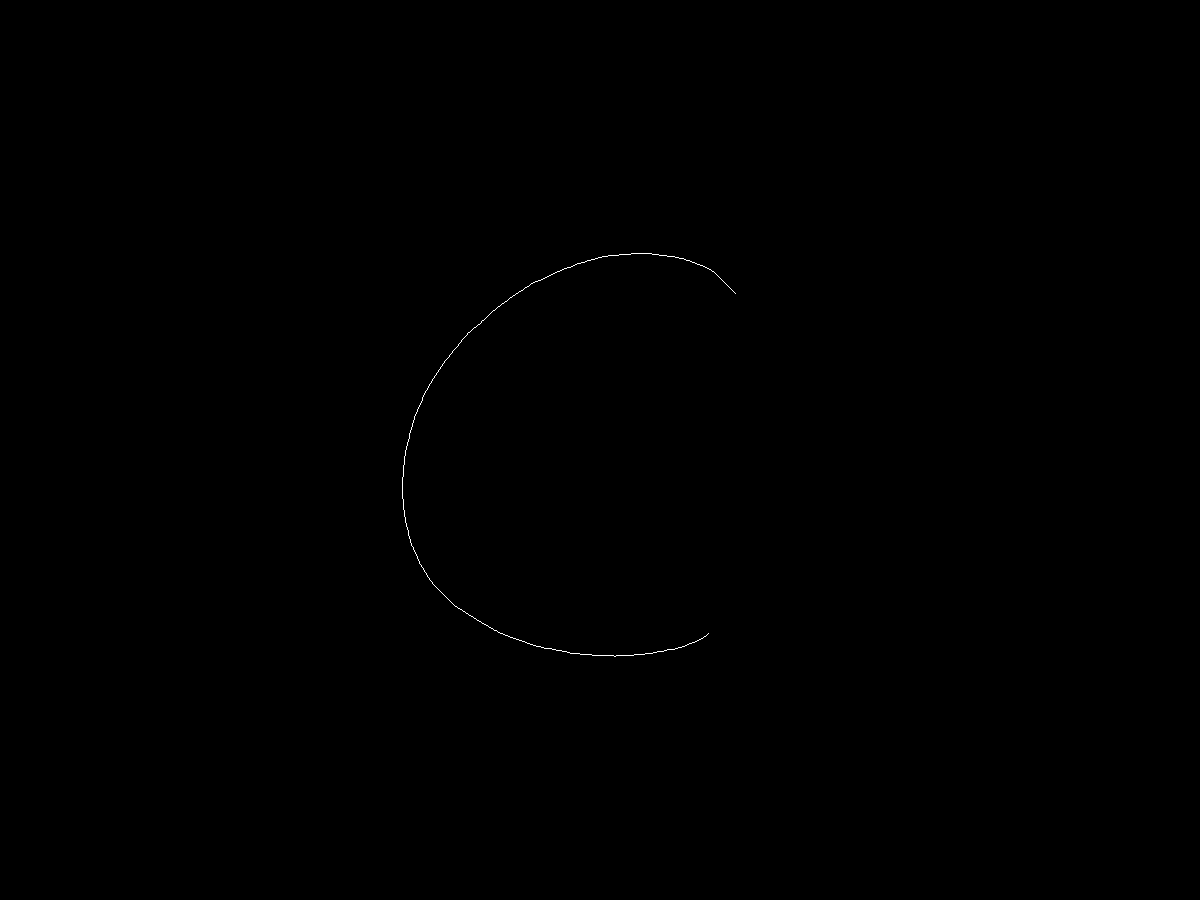dian1: (724, 285, 743, 305)
dian2: (697, 616, 734, 643)
